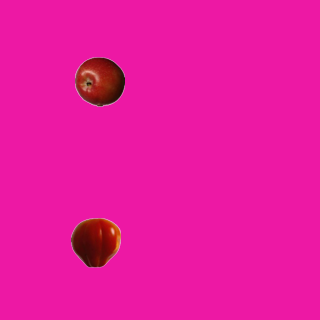Apple Braeburn: (74, 56, 124, 106)
Tomato 1: (70, 217, 120, 267)
